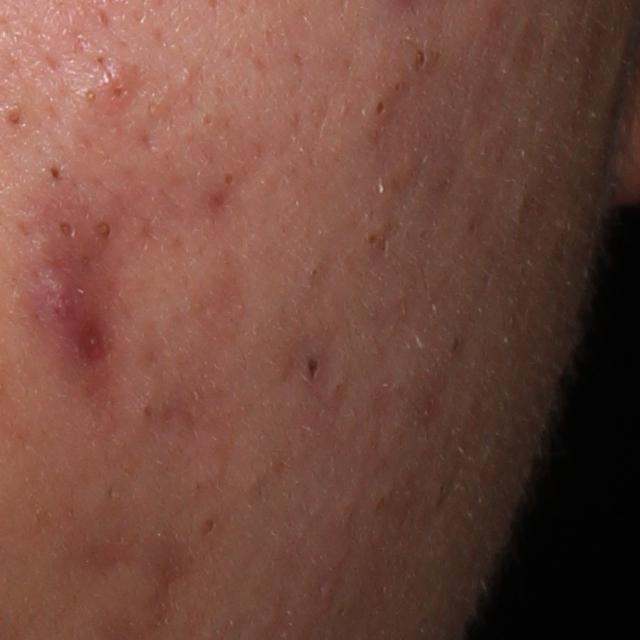comedo: (40, 155, 71, 186), (1, 104, 29, 135), (410, 41, 436, 74), (363, 95, 394, 121), (299, 351, 323, 383), (94, 211, 113, 244), (55, 216, 77, 242), (363, 231, 380, 255), (178, 64, 195, 85), (82, 84, 97, 106)
